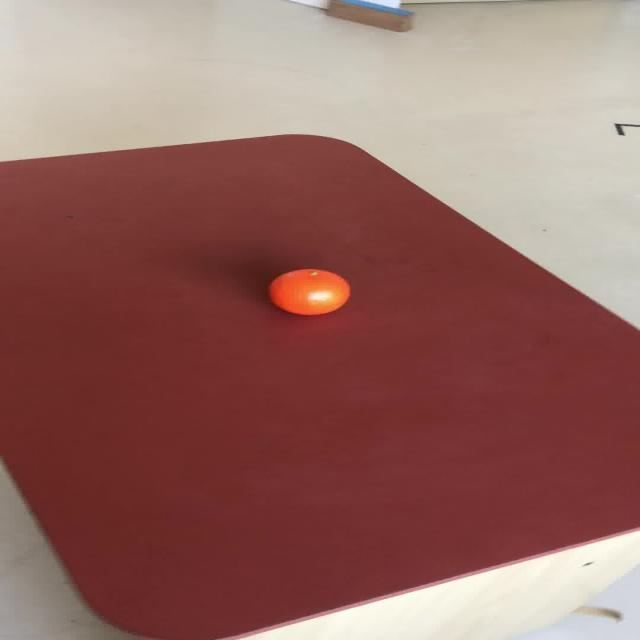orange: (267, 268, 350, 315)
